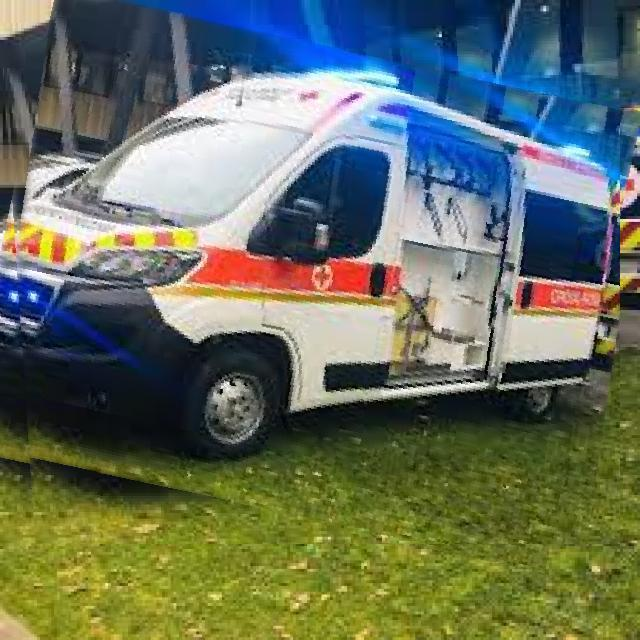ambulance: (0, 15, 620, 544)
